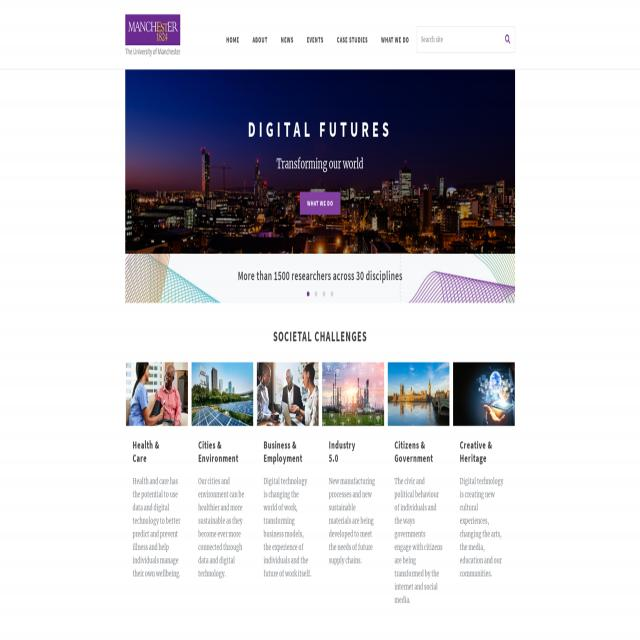button: (126, 362, 188, 427), (191, 362, 253, 427), (257, 362, 319, 427), (322, 362, 384, 427), (453, 362, 515, 427), (388, 362, 449, 427), (125, 14, 180, 57), (330, 25, 374, 55), (374, 25, 416, 55), (300, 192, 340, 215), (300, 25, 330, 55), (246, 25, 274, 55), (219, 25, 246, 55), (274, 25, 300, 55), (499, 28, 514, 53), (330, 290, 334, 297), (314, 291, 318, 297), (322, 291, 326, 297), (306, 291, 310, 297)
field: (417, 26, 499, 52)
